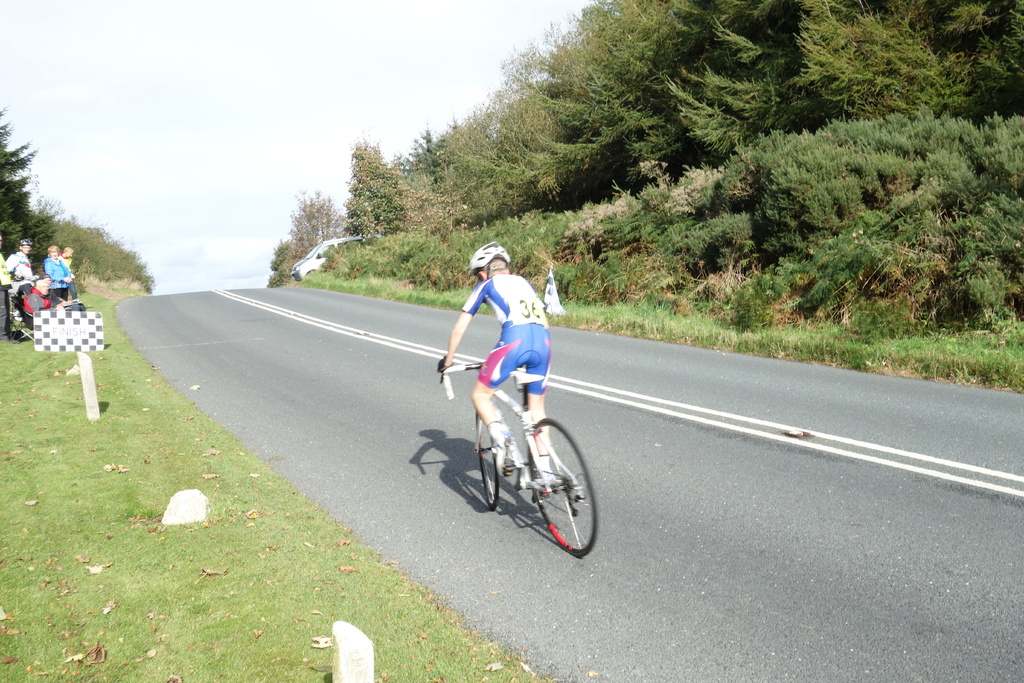Bike_away: (391, 327, 716, 650)
